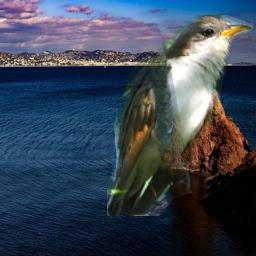Cuckoo: (107, 15, 253, 216)
